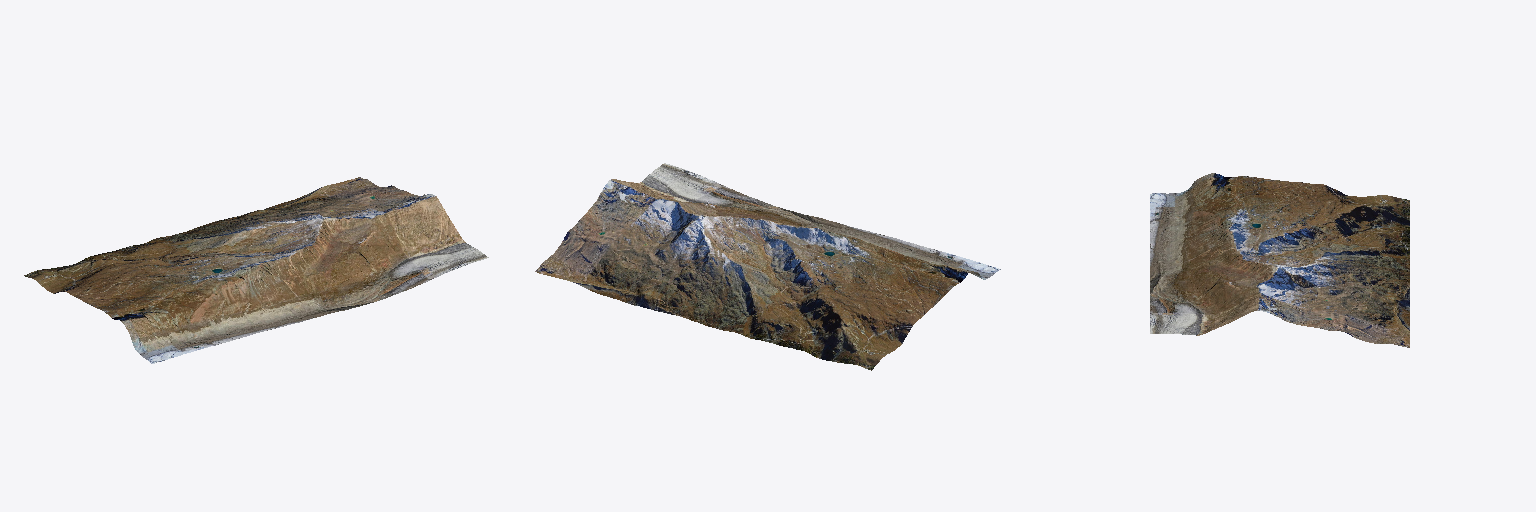
3 renders of one model, left to right at view 1: azimuth 30°, elevation 25°; view 2: azimuth 150°, elevation 25°; view 3: azimuth 270°, elevation 25°, orthographic.
Visible parts, largest first — view 1: EXPORT_GOOGLE_SAT_WM.015; view 2: EXPORT_GOOGLE_SAT_WM.015; view 3: EXPORT_GOOGLE_SAT_WM.015.
Part boxes in pixels (bbox=[...]): EXPORT_GOOGLE_SAT_WM.015: bbox=[24, 177, 488, 363]; EXPORT_GOOGLE_SAT_WM.015: bbox=[535, 163, 1000, 370]; EXPORT_GOOGLE_SAT_WM.015: bbox=[1150, 173, 1409, 347].
Size of the model in its own units: 9124 by 1411 by 6083.
Materials: 1 (1 with a texture image).